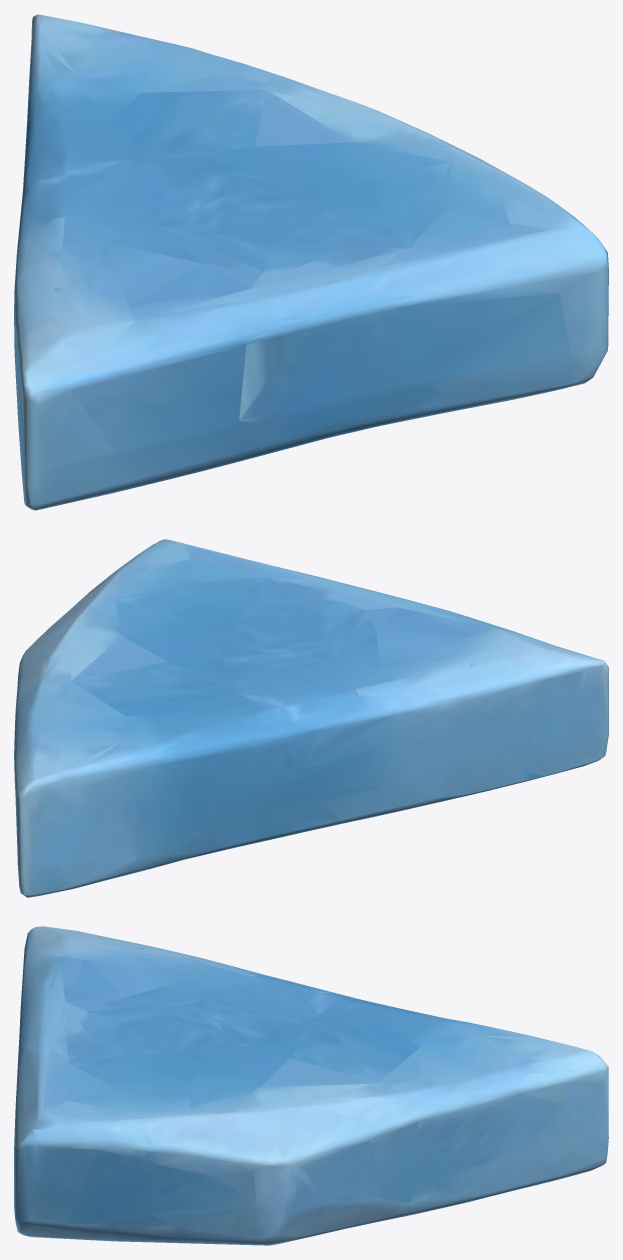
Rendered from placa_hielo_rota_3_1200.glb.
3 renders of one model, top to bottom at view 1: azimuth 30°, elevation 25°; view 2: azimuth 150°, elevation 25°; view 3: azimuth 270°, elevation 25°, orthographic. The views are drawn at different scales.
Parts seen in each view (by area): view 1: placa_hielo_rota_3_malla; view 2: placa_hielo_rota_3_malla; view 3: placa_hielo_rota_3_malla.
Part boxes in pixels (left/top/right/bottom): placa_hielo_rota_3_malla: left=14, top=14, right=608, bottom=510; placa_hielo_rota_3_malla: left=14, top=539, right=608, bottom=897; placa_hielo_rota_3_malla: left=14, top=926, right=608, bottom=1245.
Size of the model in its own units: 0.1101 by 0.0277 by 0.1233.
Materials: 1 (1 with a texture image).
